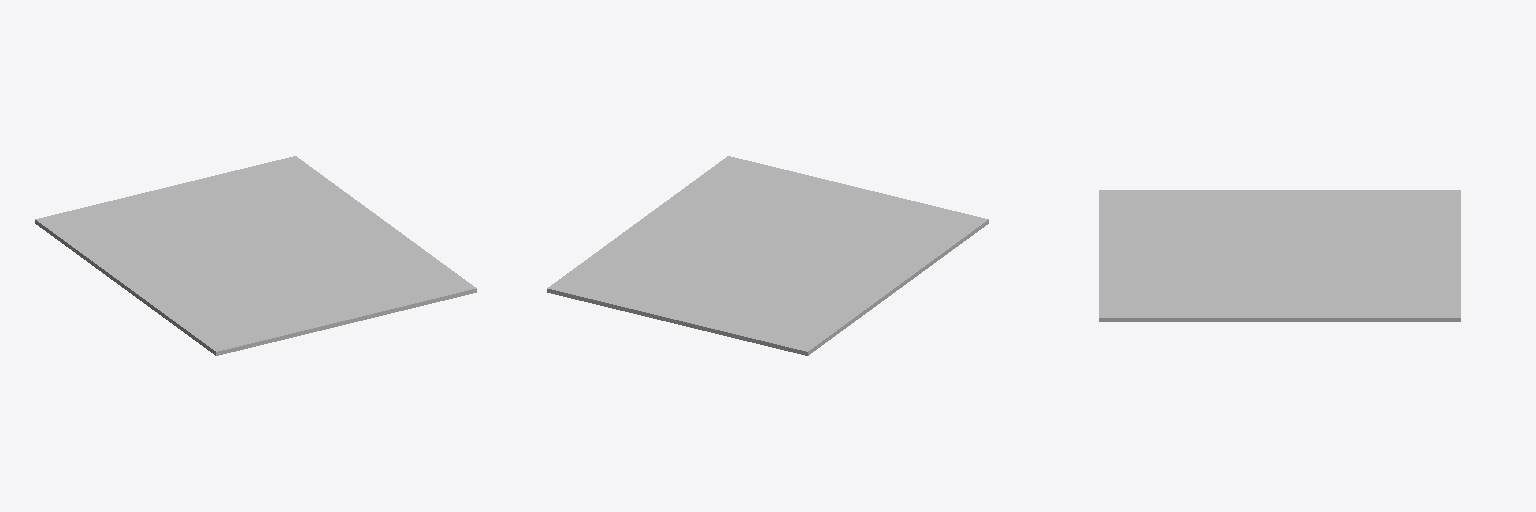
File: lowPolyzplaneManyFaces.obj
3 renders of one model, left to right at view 1: azimuth 30°, elevation 25°; view 2: azimuth 150°, elevation 25°; view 3: azimuth 270°, elevation 25°, orthographic.
Visible parts, largest first — view 1: Cube; view 2: Cube; view 3: Cube.
Part boxes in pixels (left/top/right/bottom): Cube: left=35, top=156, right=476, bottom=355; Cube: left=547, top=156, right=988, bottom=355; Cube: left=1099, top=190, right=1460, bottom=321.
Size of the model in its own units: 58.84 by 0.9032 by 70.84.